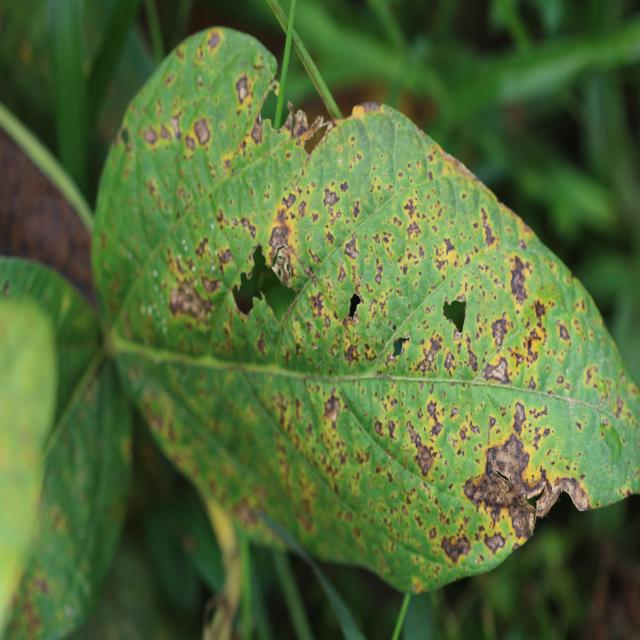Bacterial_Blight: (304, 395, 381, 498), (163, 230, 231, 323), (469, 428, 538, 511), (425, 396, 490, 476), (318, 171, 374, 254), (580, 345, 634, 412), (213, 195, 264, 257), (366, 213, 414, 273), (517, 299, 557, 370), (266, 204, 301, 269), (142, 110, 185, 151), (406, 424, 437, 478), (164, 243, 201, 288), (433, 225, 467, 273), (508, 254, 530, 301), (418, 333, 444, 372), (481, 355, 511, 384), (440, 534, 468, 563), (491, 317, 512, 349), (481, 213, 499, 249), (323, 392, 341, 424), (406, 421, 424, 449), (465, 337, 479, 373), (512, 402, 526, 434), (484, 532, 505, 553), (531, 425, 550, 448), (235, 74, 250, 102), (251, 113, 264, 145), (532, 299, 548, 324), (310, 291, 325, 317), (584, 364, 600, 387), (217, 247, 234, 267), (323, 188, 340, 208), (344, 343, 360, 364), (406, 220, 422, 240), (143, 125, 159, 145), (403, 198, 418, 219), (206, 31, 221, 52), (443, 351, 456, 375), (195, 237, 209, 259), (282, 191, 297, 209), (426, 400, 439, 420), (256, 332, 267, 355), (337, 261, 347, 283), (374, 419, 385, 436), (297, 200, 307, 217), (309, 249, 321, 263), (488, 416, 496, 432), (528, 376, 537, 390), (339, 180, 348, 193), (450, 405, 459, 418), (429, 526, 437, 539), (324, 317, 331, 328)
Soybean: (91, 29, 640, 599)
